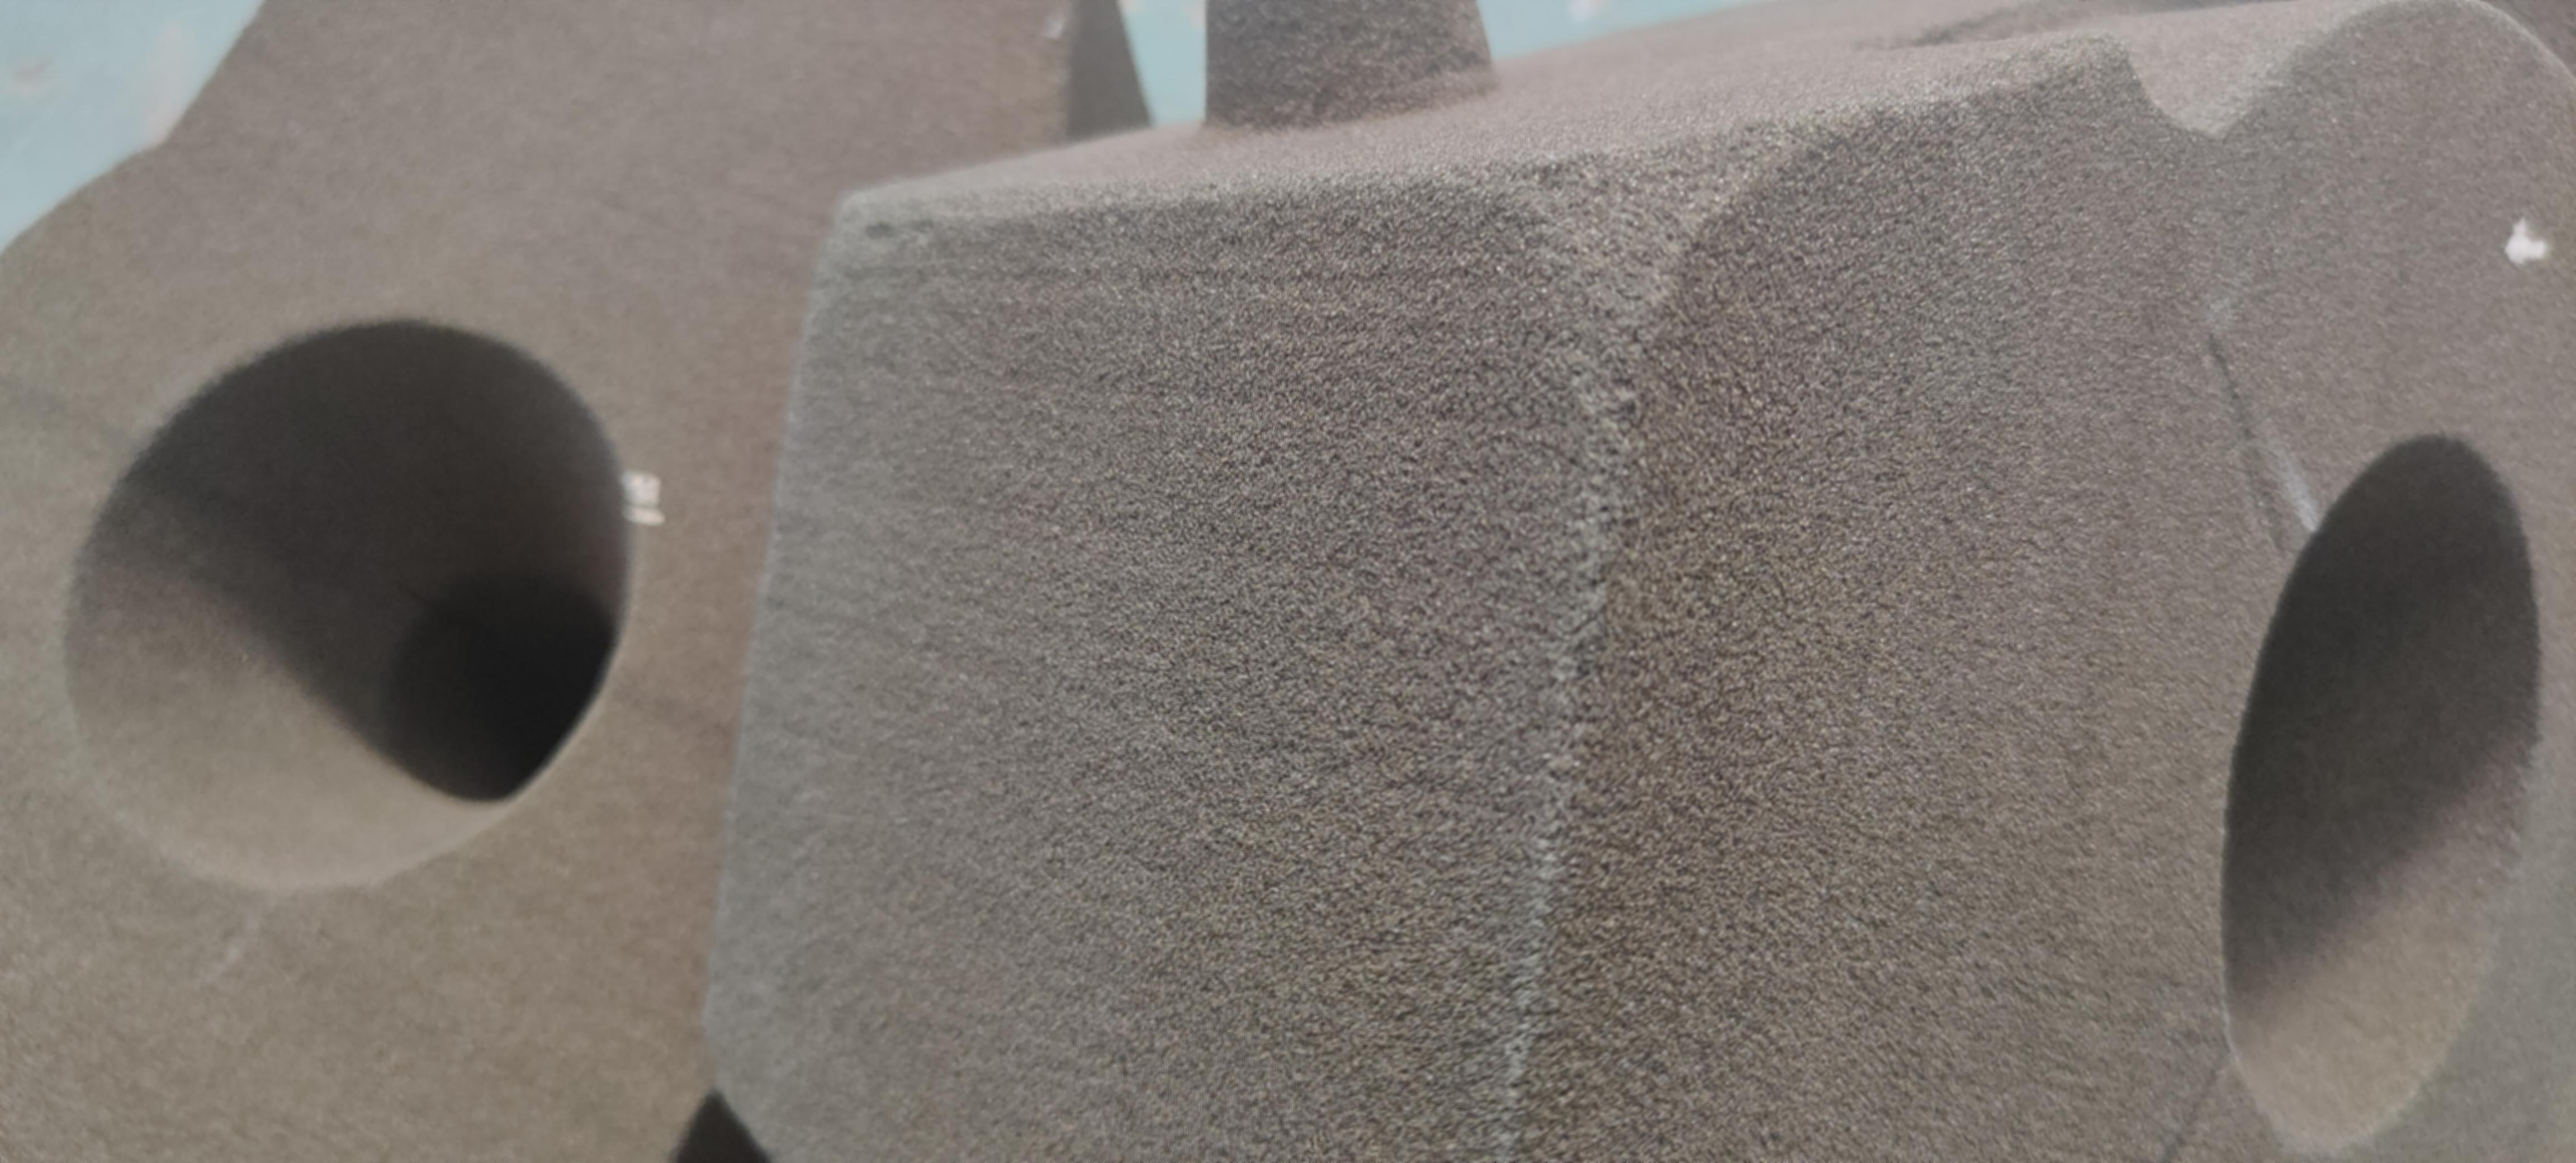pouring hole: (59, 317, 634, 894), (2216, 429, 2540, 1155)
